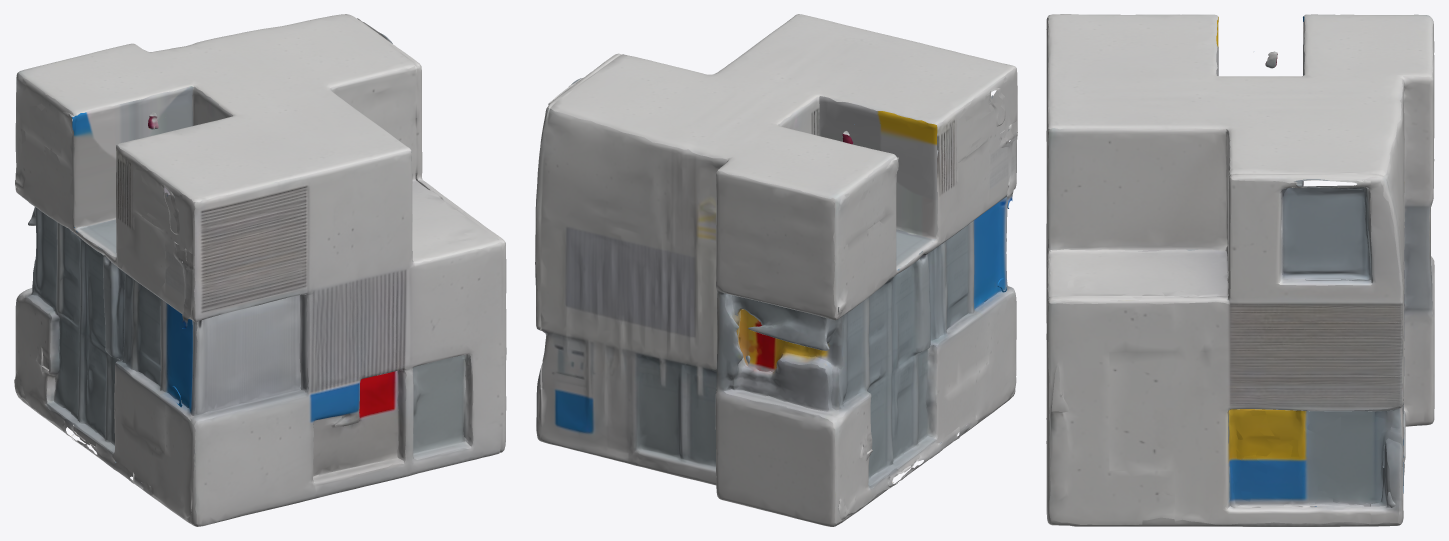
3 renders of one model, left to right at view 1: azimuth 30°, elevation 25°; view 2: azimuth 150°, elevation 25°; view 3: azimuth 270°, elevation 25°, orthographic. The views are drawn at different scales.
Parts seen in each view (by area): view 1: tmpbi6tjryt.ply; view 2: tmpbi6tjryt.ply; view 3: tmpbi6tjryt.ply.
Boxes of the visible parts, <box> form: tmpbi6tjryt.ply: <box>14,14,506,526</box>; tmpbi6tjryt.ply: <box>535,14,1017,526</box>; tmpbi6tjryt.ply: <box>1046,14,1434,526</box>.
Size of the model in its own units: 1.98 by 1.96 by 1.96.
1 material, 1 textured.
